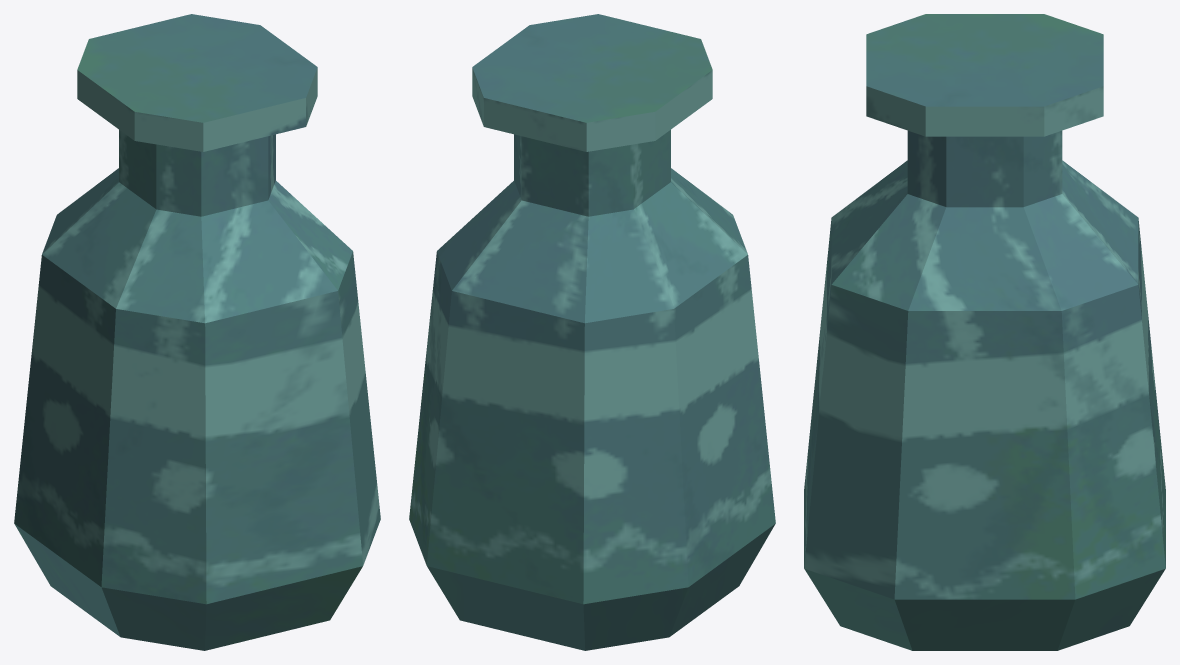
The model's file is SM_pot1.fbx.
3 views of the same model, side by side, from view 1: azimuth 30°, elevation 25°; view 2: azimuth 150°, elevation 25°; view 3: azimuth 270°, elevation 25° (orthographic). The views are drawn at different scales.
Parts seen in each view (by area): view 1: pot1; view 2: pot1; view 3: pot1.
Part boxes in pixels (x1,y1,x2,y2): pot1: (14,14,380,650); pot1: (409,14,775,650); pot1: (804,14,1165,650).
Bounding box in the file's own units: 5.09 × 8.99 × 5.51.
